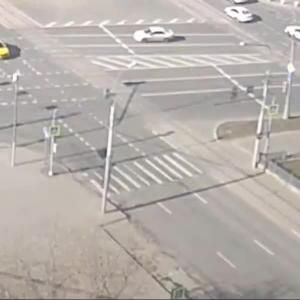car: (130, 27, 178, 45), (223, 7, 256, 24), (285, 27, 300, 39)
